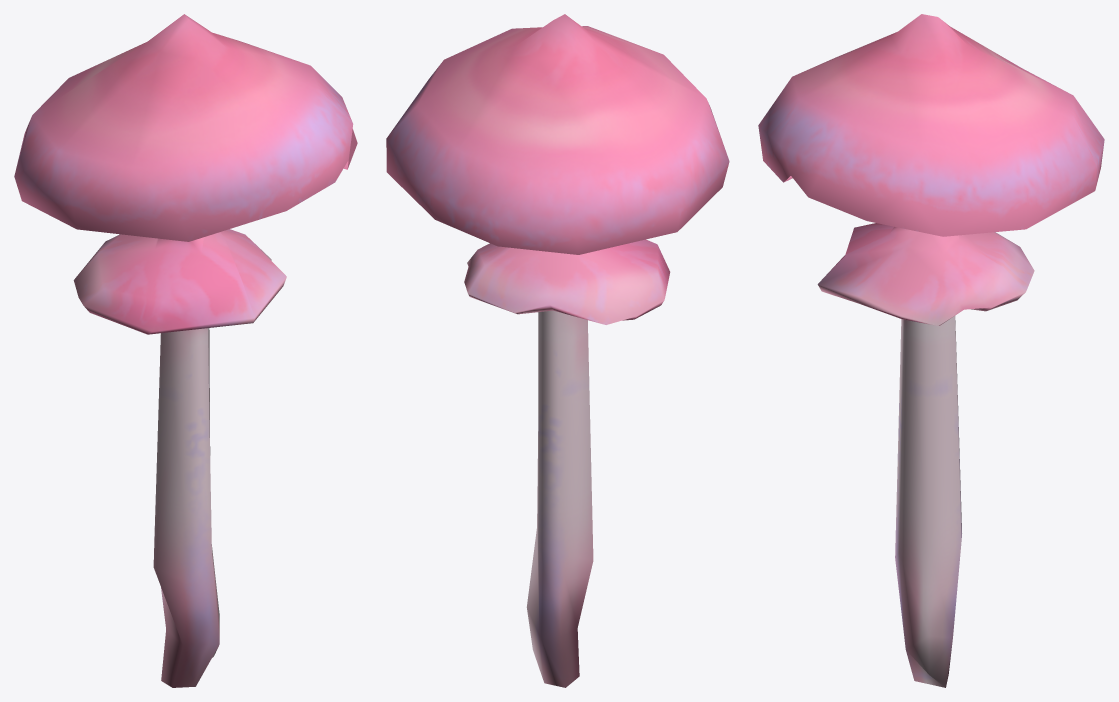
File: SM_Potion_Props_Loot_Mushroom_02_A.fbx
The picture shows the model from 3 angles, left to right: view 1: azimuth 30°, elevation 25°; view 2: azimuth 150°, elevation 25°; view 3: azimuth 270°, elevation 25°; orthographic projection.
Parts seen in each view (by area): view 1: SM_Potion_Props_Loot_Mushroom_02_A_LOD0; view 2: SM_Potion_Props_Loot_Mushroom_02_A_LOD0; view 3: SM_Potion_Props_Loot_Mushroom_02_A_LOD0.
Part boxes in pixels (x1,y1,x2,y2): SM_Potion_Props_Loot_Mushroom_02_A_LOD0: [14, 14, 357, 687]; SM_Potion_Props_Loot_Mushroom_02_A_LOD0: [386, 14, 729, 687]; SM_Potion_Props_Loot_Mushroom_02_A_LOD0: [758, 14, 1104, 687].
Size of what is drawn, in the model's own units: 5.55 by 11.96 by 5.61.
